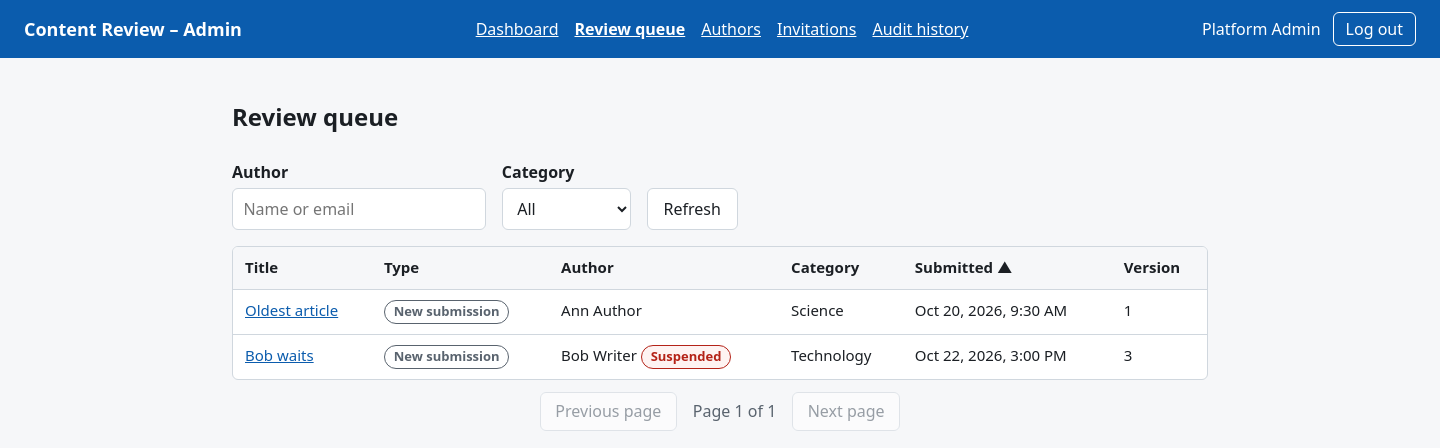
Test case: filters › finds an author by typing, filters by the one chosen and can clear it
Expected: the heading "Review queue" is shown, [232, 102, 398, 132]
Expected: the table is shown, [233, 247, 1207, 379]
In the dropdown with test id "review-author-search": (359, 209) [232, 188, 486, 230], type "ann"
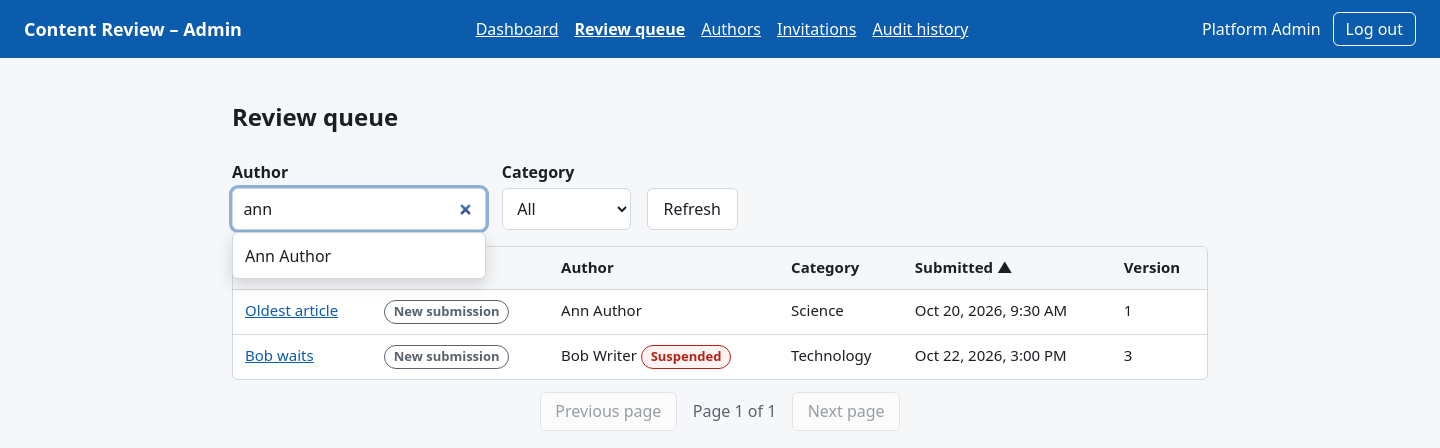
Click the button "Ann Author": (359, 256) [233, 237, 485, 274]
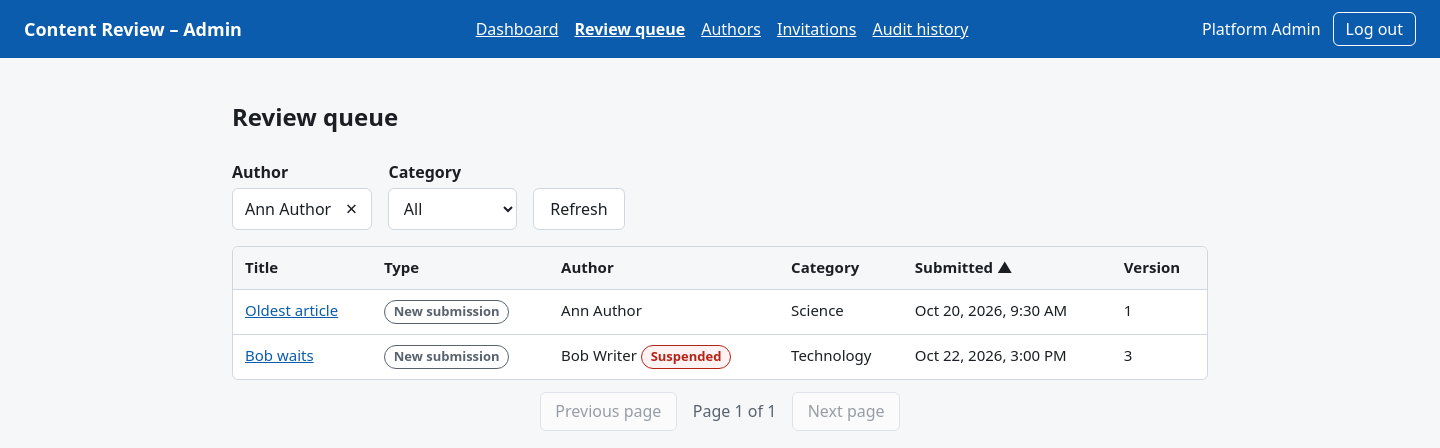
Expected: the element with test id "review-author-chip" shows "Ann Author", [245, 198, 331, 220]
Click the button with test id "review-author-clear": (351, 209) [339, 199, 363, 219]
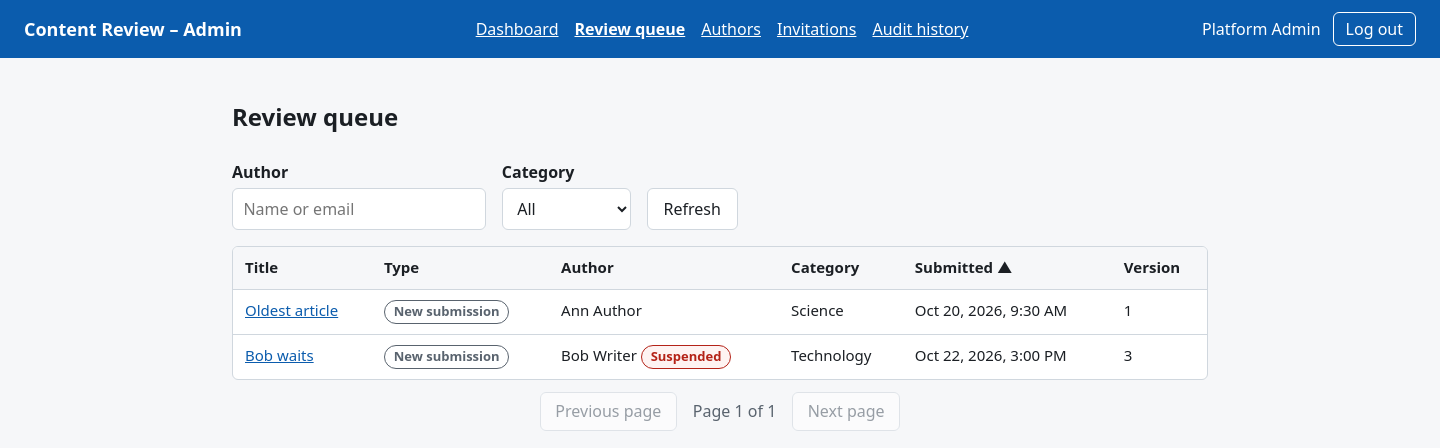
Expected: the dropdown with test id "review-author-search" is shown, [232, 188, 486, 230]
